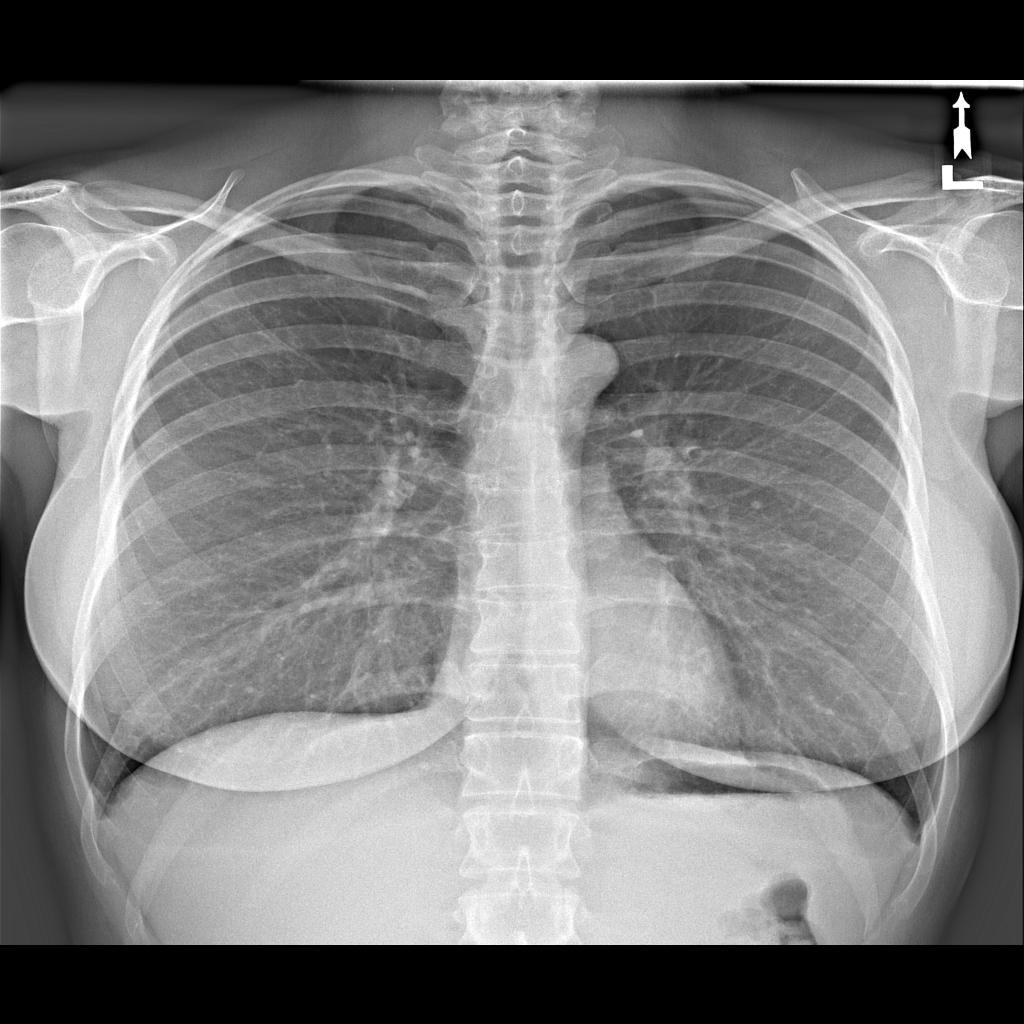Nodule: (641, 446, 697, 511)
